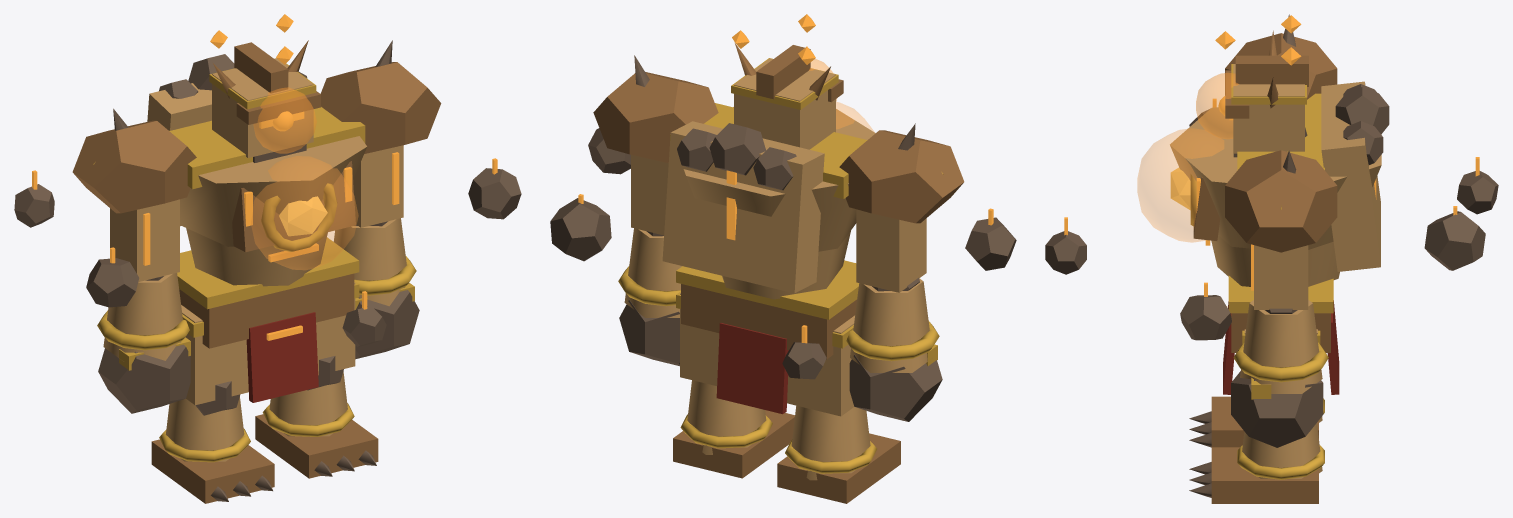
The model's file is BO_SK_Boss_Colossus_v001.glb.
3 renders of one model, left to right at view 1: azimuth 30°, elevation 25°; view 2: azimuth 150°, elevation 25°; view 3: azimuth 270°, elevation 25°, orthographic.
Parts seen in each view (by area): view 1: glowfx_029, body_024, body_038, body_048, body_000, body_002, body_059, body_046, body_023, body_041, body_010, body_019 (+29 smaller); view 2: body_033, body_038, body_048, body_000, body_003, body_059, body_024, body_044, body_041, body_046, body_008, body_001 (+25 smaller); view 3: body_048, body_033, glowfx_029, body_024, body_054, body_056, body_059, body_019, body_051, body_076, body_023, body_038 (+20 smaller).
Part boxes in pixels (x1,y1,x2,y2): glowfx_029: (251,156,358,269); body_024: (180,136,367,246); body_038: (72,120,196,213); body_048: (320,62,441,153); body_000: (179,273,354,348); body_002: (246,312,318,402); body_059: (212,58,313,157); body_046: (98,342,190,413); body_023: (186,228,327,286); body_041: (110,199,179,281); body_010: (151,439,274,503); body_019: (255,414,378,478); body_033: (662,121,824,293); body_038: (839,130,964,223); body_048: (593,72,718,163); body_000: (681,284,856,359); body_003: (716,323,788,414); body_059: (734,58,835,149); body_024: (683,107,875,251); body_044: (850,278,932,372); body_041: (856,209,926,292); body_046: (849,354,942,421); body_008: (791,405,870,480); body_001: (676,260,859,319); body_048: (1225,150,1337,252); body_033: (1321,81,1380,271); glowfx_029: (1137,128,1223,242); body_024: (1170,107,1381,249); body_054: (1240,300,1322,393); body_056: (1231,371,1323,447); body_059: (1233,64,1304,153); body_019: (1211,447,1318,503); body_051: (1254,245,1308,309); body_076: (1424,211,1485,270); body_023: (1211,235,1339,286); body_038: (1225,33,1337,99).
Bounding box in the file's own units: 6.07 × 6 × 5.69.
